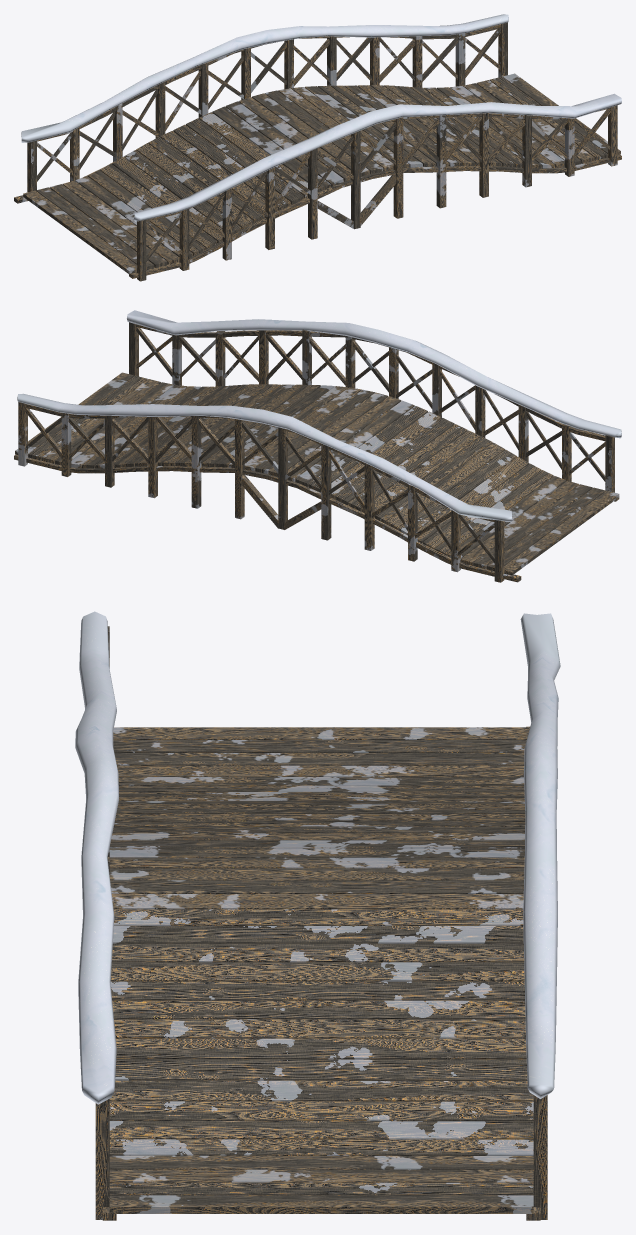
File: Arctic_Bridge_SM.fbx
3 renders of one model, top to bottom at view 1: azimuth 30°, elevation 25°; view 2: azimuth 150°, elevation 25°; view 3: azimuth 270°, elevation 25°, orthographic. The views are drawn at different scales.
Parts seen in each view (by area): view 1: Arctic_Bridge_SM; view 2: Arctic_Bridge_SM; view 3: Arctic_Bridge_SM.
Part boxes in pixels (x1,y1,x2,y2): Arctic_Bridge_SM: (14, 14, 621, 281); Arctic_Bridge_SM: (14, 310, 621, 582); Arctic_Bridge_SM: (75, 611, 560, 1220).
Bounding box in the file's own units: 816 × 176 × 344.
